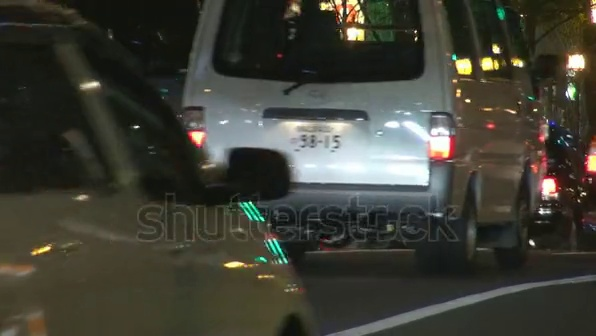licenseplate: (292, 126, 337, 156)
